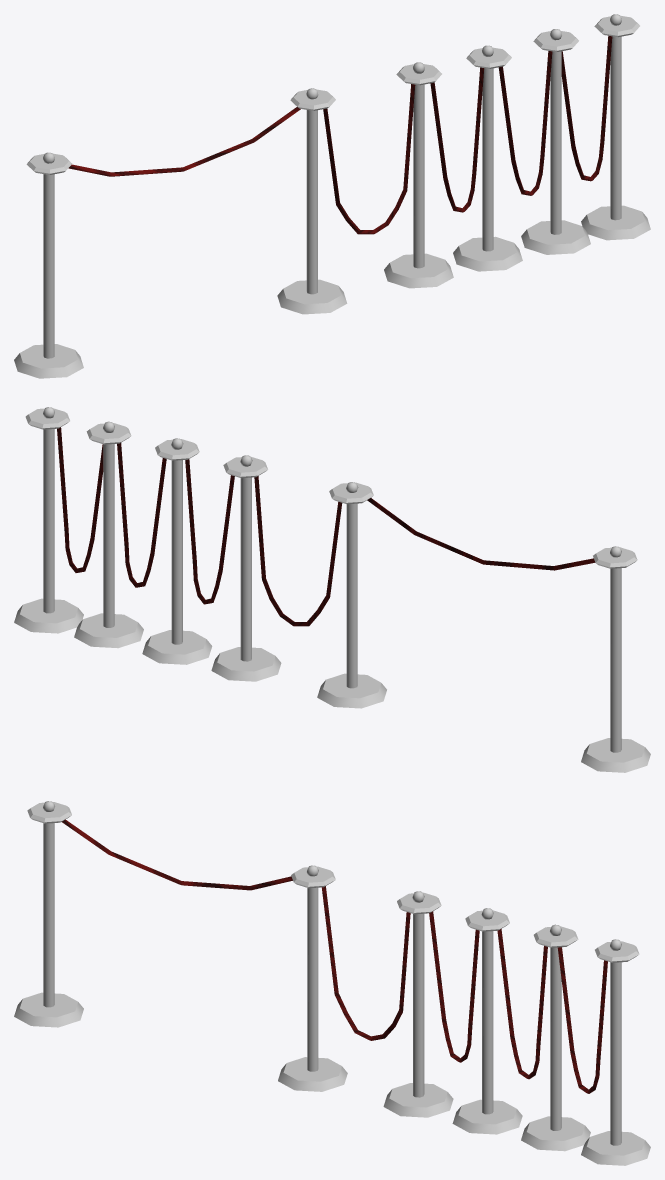
File: Prop_Post_02.FBX
3 renders of one model, top to bottom at view 1: azimuth 30°, elevation 25°; view 2: azimuth 150°, elevation 25°; view 3: azimuth 330°, elevation 25°, orthographic.
Parts seen in each view (by area): view 1: Prop_Post_02; view 2: Prop_Post_02; view 3: Prop_Post_02.
Boxes of the visible parts, x1=… form: Prop_Post_02: x1=14, y1=14, x2=650, y2=378; Prop_Post_02: x1=14, y1=407, x2=650, y2=772; Prop_Post_02: x1=14, y1=801, x2=650, y2=1165.
Size of the model in its own units: 2.83 by 0.9082 by 0.2857.
